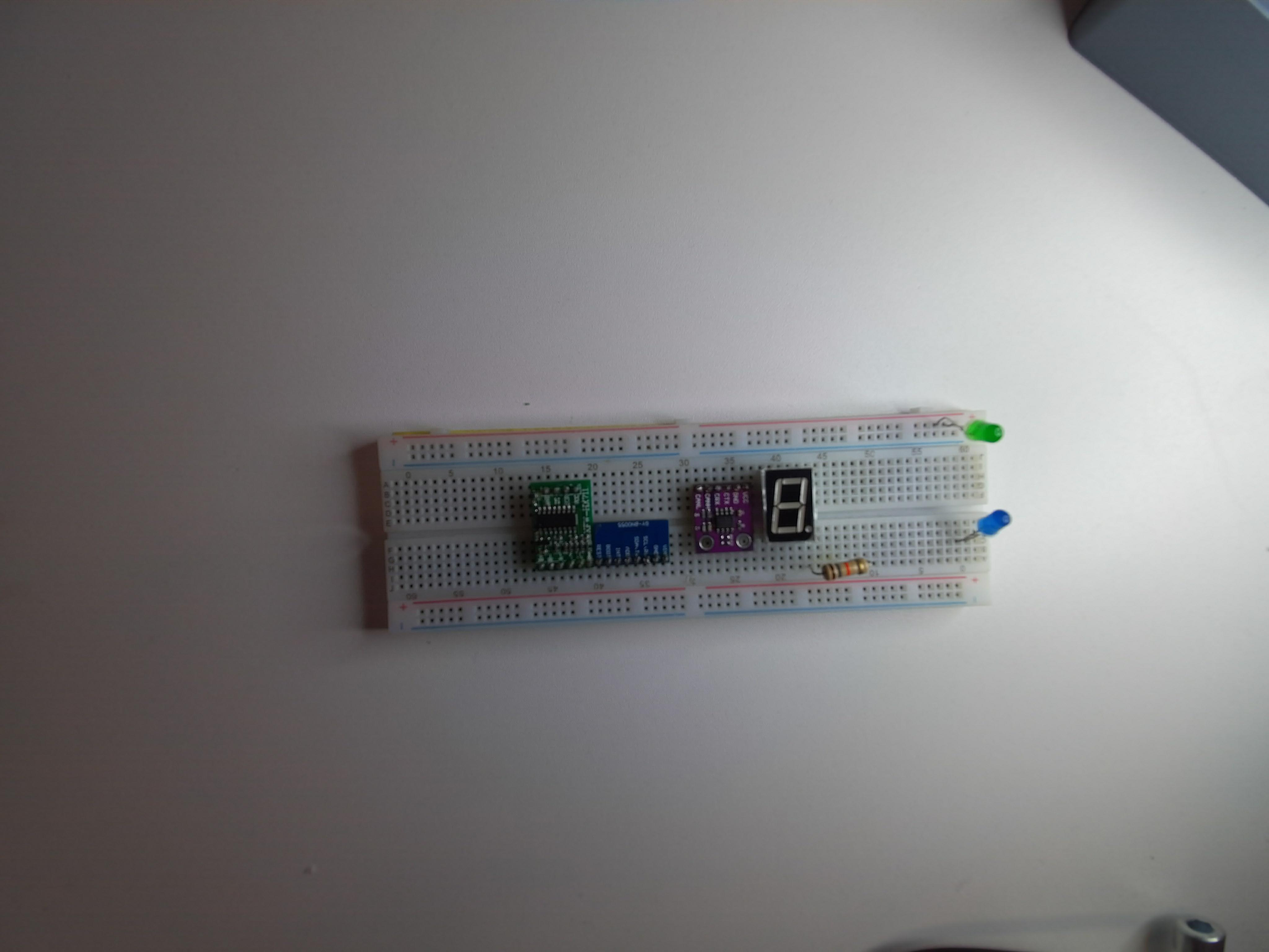base: (363, 409, 1010, 634)
blue-board: (595, 518, 672, 568)
blue-led: (978, 508, 1012, 536)
digit-board: (762, 467, 816, 543)
green-board: (524, 474, 592, 572)
green-led: (964, 414, 1006, 450)
purple-board: (684, 476, 764, 555)
resistor-big: (819, 559, 870, 580)
